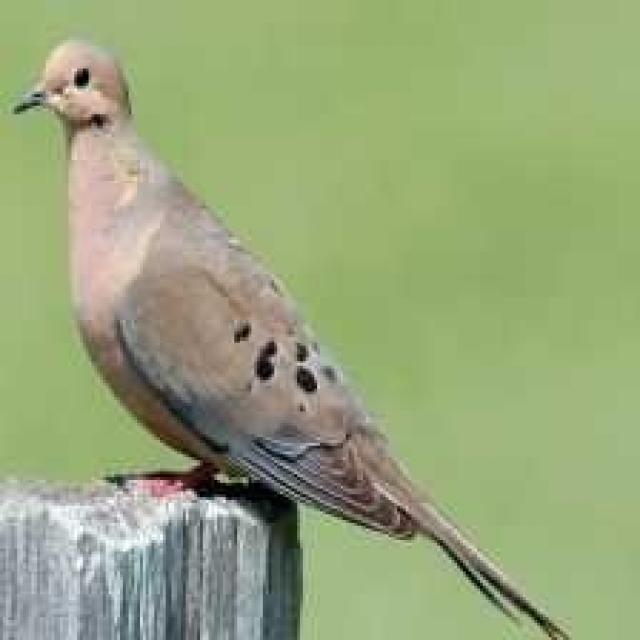bird: (10, 28, 589, 640)
